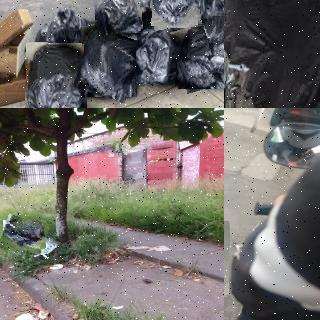Garbage: (224, 0, 320, 108), (77, 23, 142, 100), (25, 42, 87, 108), (136, 8, 188, 86), (174, 22, 224, 91), (1, 217, 48, 253), (93, 0, 141, 34), (148, 0, 200, 28), (209, 14, 224, 68), (32, 236, 61, 260)
